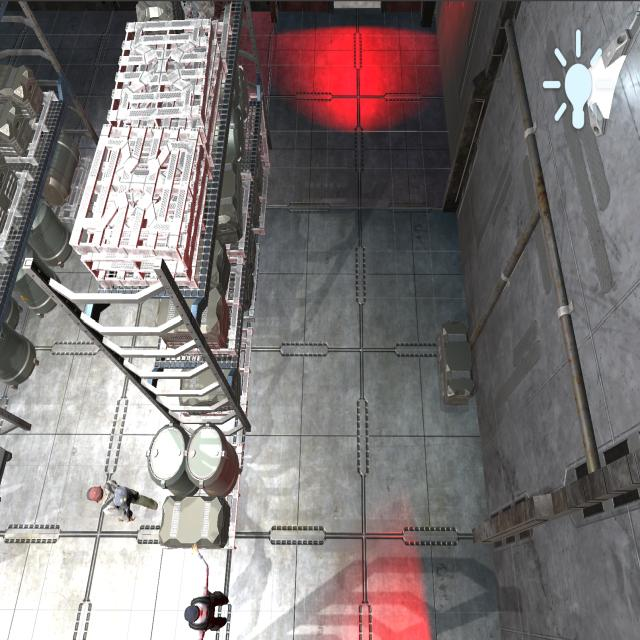thiefs: (79, 477, 160, 527)
